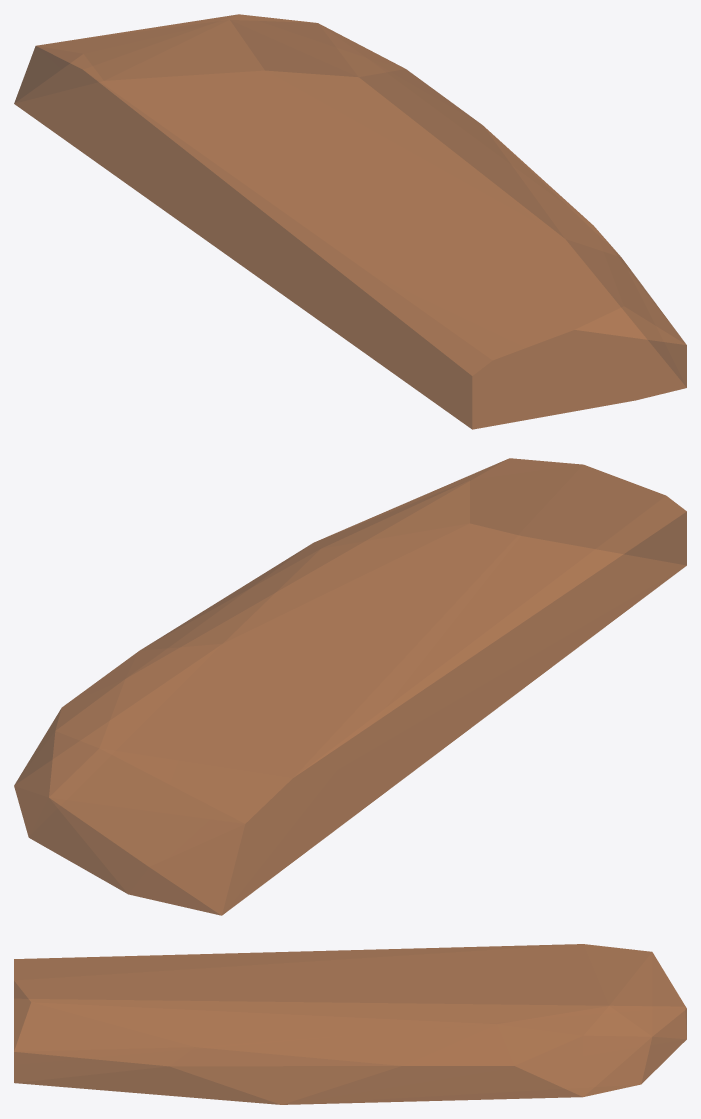
The picture shows the model from 3 angles, top to bottom: view 1: azimuth 30°, elevation 25°; view 2: azimuth 150°, elevation 25°; view 3: azimuth 270°, elevation 25°; orthographic projection. The views are drawn at different scales.
Parts seen in each view (by area): view 1: Shape_IndexedFaceSet.005_Shape_IndexedFaceSet.4462; view 2: Shape_IndexedFaceSet.005_Shape_IndexedFaceSet.4462; view 3: Shape_IndexedFaceSet.005_Shape_IndexedFaceSet.4462.
Part boxes in pixels (box(x1,y1,x2,y2)): Shape_IndexedFaceSet.005_Shape_IndexedFaceSet.4462: box(14, 14, 686, 429); Shape_IndexedFaceSet.005_Shape_IndexedFaceSet.4462: box(14, 458, 686, 915); Shape_IndexedFaceSet.005_Shape_IndexedFaceSet.4462: box(14, 944, 686, 1104).
Size of the model in its own units: 0.0672 by 0.0199 by 0.1942.
